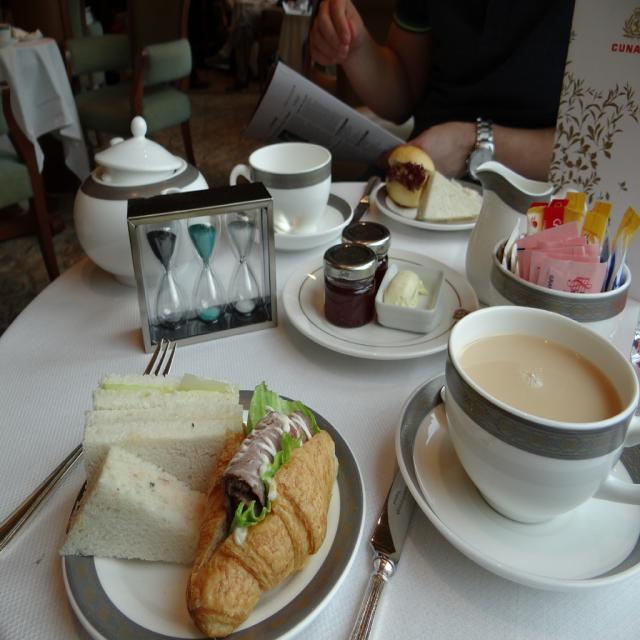Coffee: (463, 331, 623, 422)
Tea: (454, 331, 620, 419)
